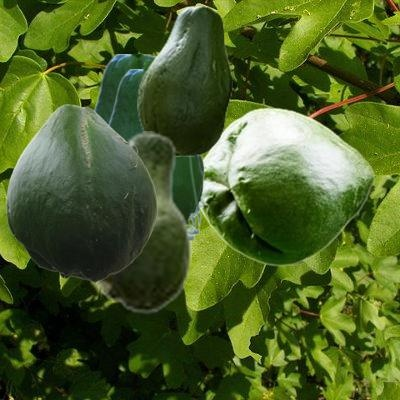sayote: (202, 107, 374, 265), (6, 104, 156, 282), (93, 54, 203, 242), (89, 131, 190, 313), (108, 69, 207, 237), (137, 5, 231, 155)
